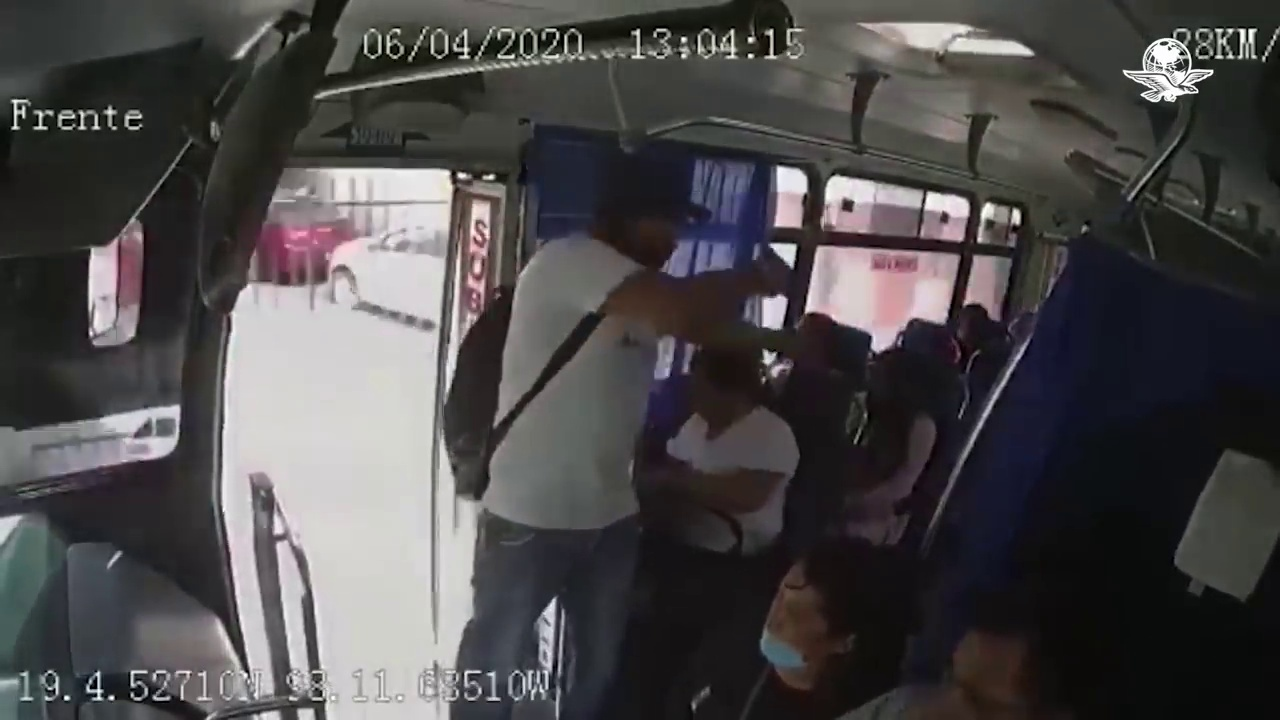pistol: (755, 238, 800, 301)
